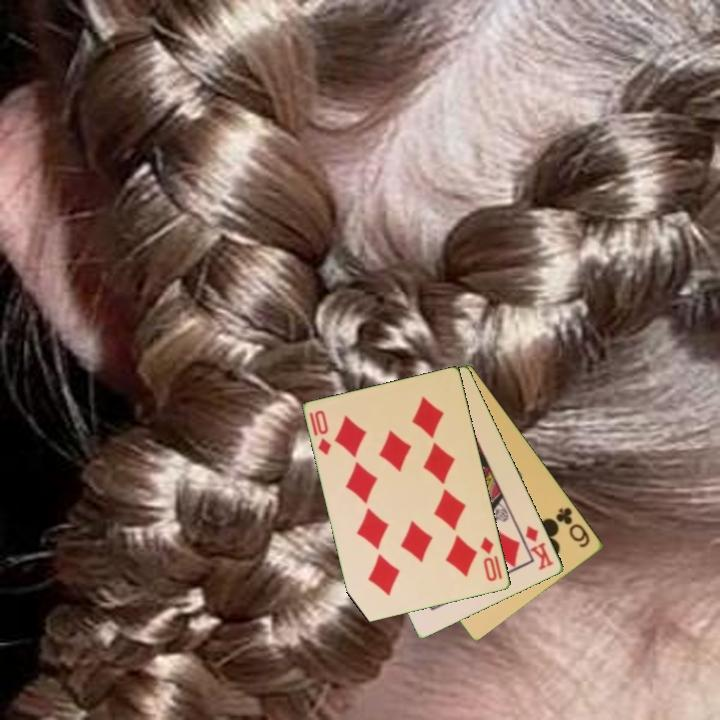10d: (477, 533, 500, 585), (311, 407, 334, 458)
6c: (552, 504, 593, 551)
Kd: (522, 522, 557, 573)
